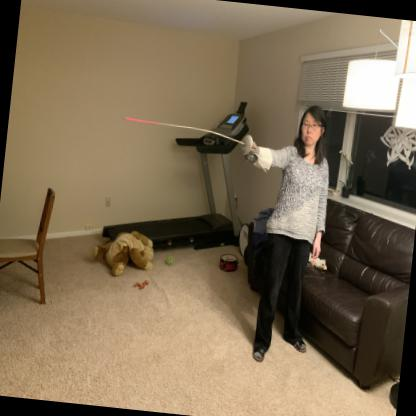foil-tip: (119, 112, 138, 134)
hand-and-foil: (110, 104, 274, 172)
